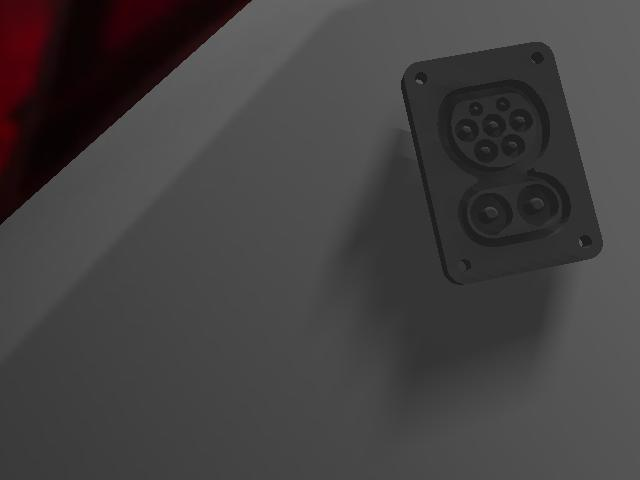EV-socket: (401, 42, 601, 282)
